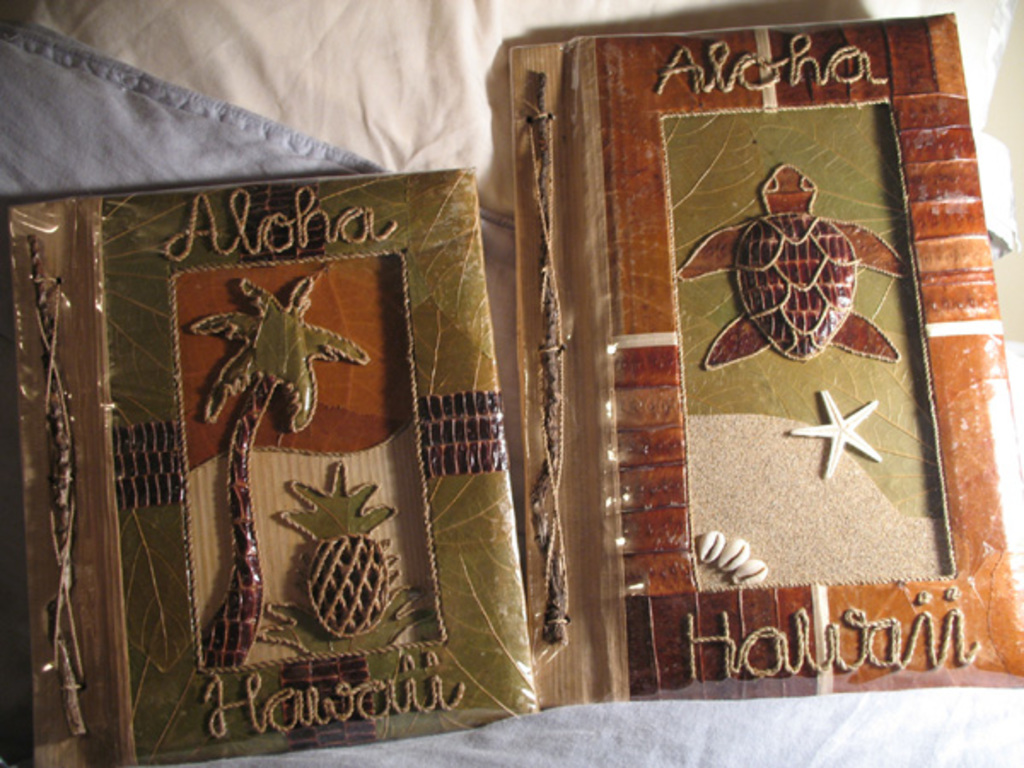Sea turtles: (679, 157, 909, 377)
